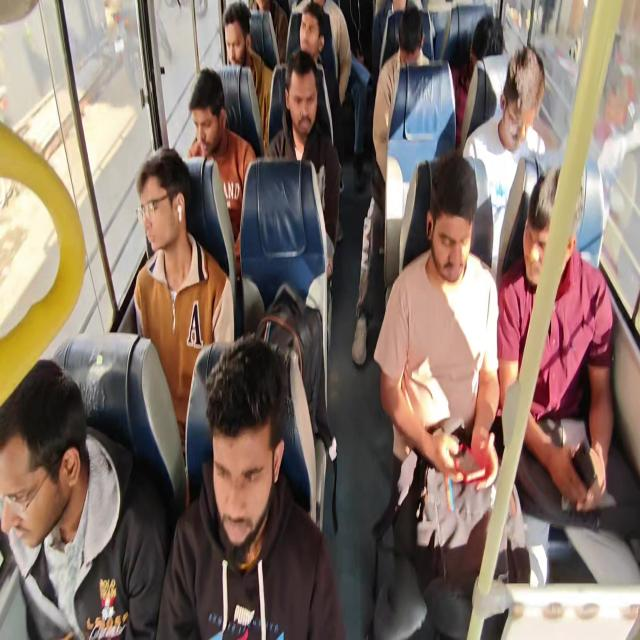person: (2, 1, 637, 638), (372, 151, 526, 638), (496, 164, 638, 585), (156, 333, 346, 639), (0, 358, 168, 638), (133, 146, 235, 463), (352, 5, 432, 367), (254, 282, 338, 534), (462, 44, 546, 278), (264, 50, 342, 275), (187, 67, 257, 275), (221, 0, 272, 139), (286, 0, 334, 146), (452, 14, 504, 146), (371, 0, 407, 92), (250, 0, 289, 64)
